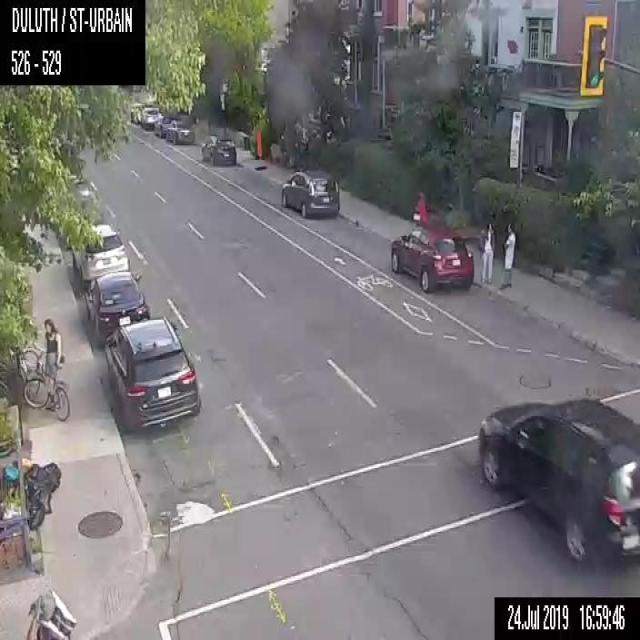construction: (254, 128, 261, 156)
pedestrian: (42, 317, 61, 405), (501, 222, 516, 290), (478, 221, 494, 284), (412, 188, 428, 223)
vehicle: (477, 392, 639, 568), (105, 316, 201, 434), (388, 222, 473, 294), (84, 270, 151, 348), (71, 223, 132, 286), (279, 168, 339, 217), (200, 134, 236, 166), (166, 117, 194, 144), (140, 105, 161, 130), (154, 115, 174, 136)
